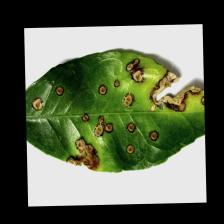canker: (30, 57, 207, 170)
